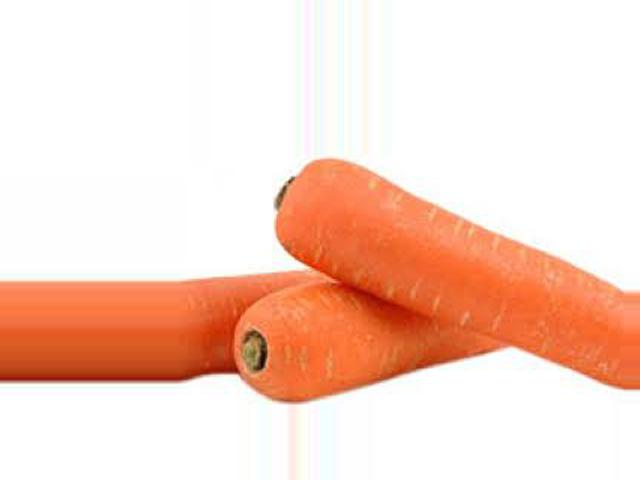carrot: (216, 283, 522, 394)
